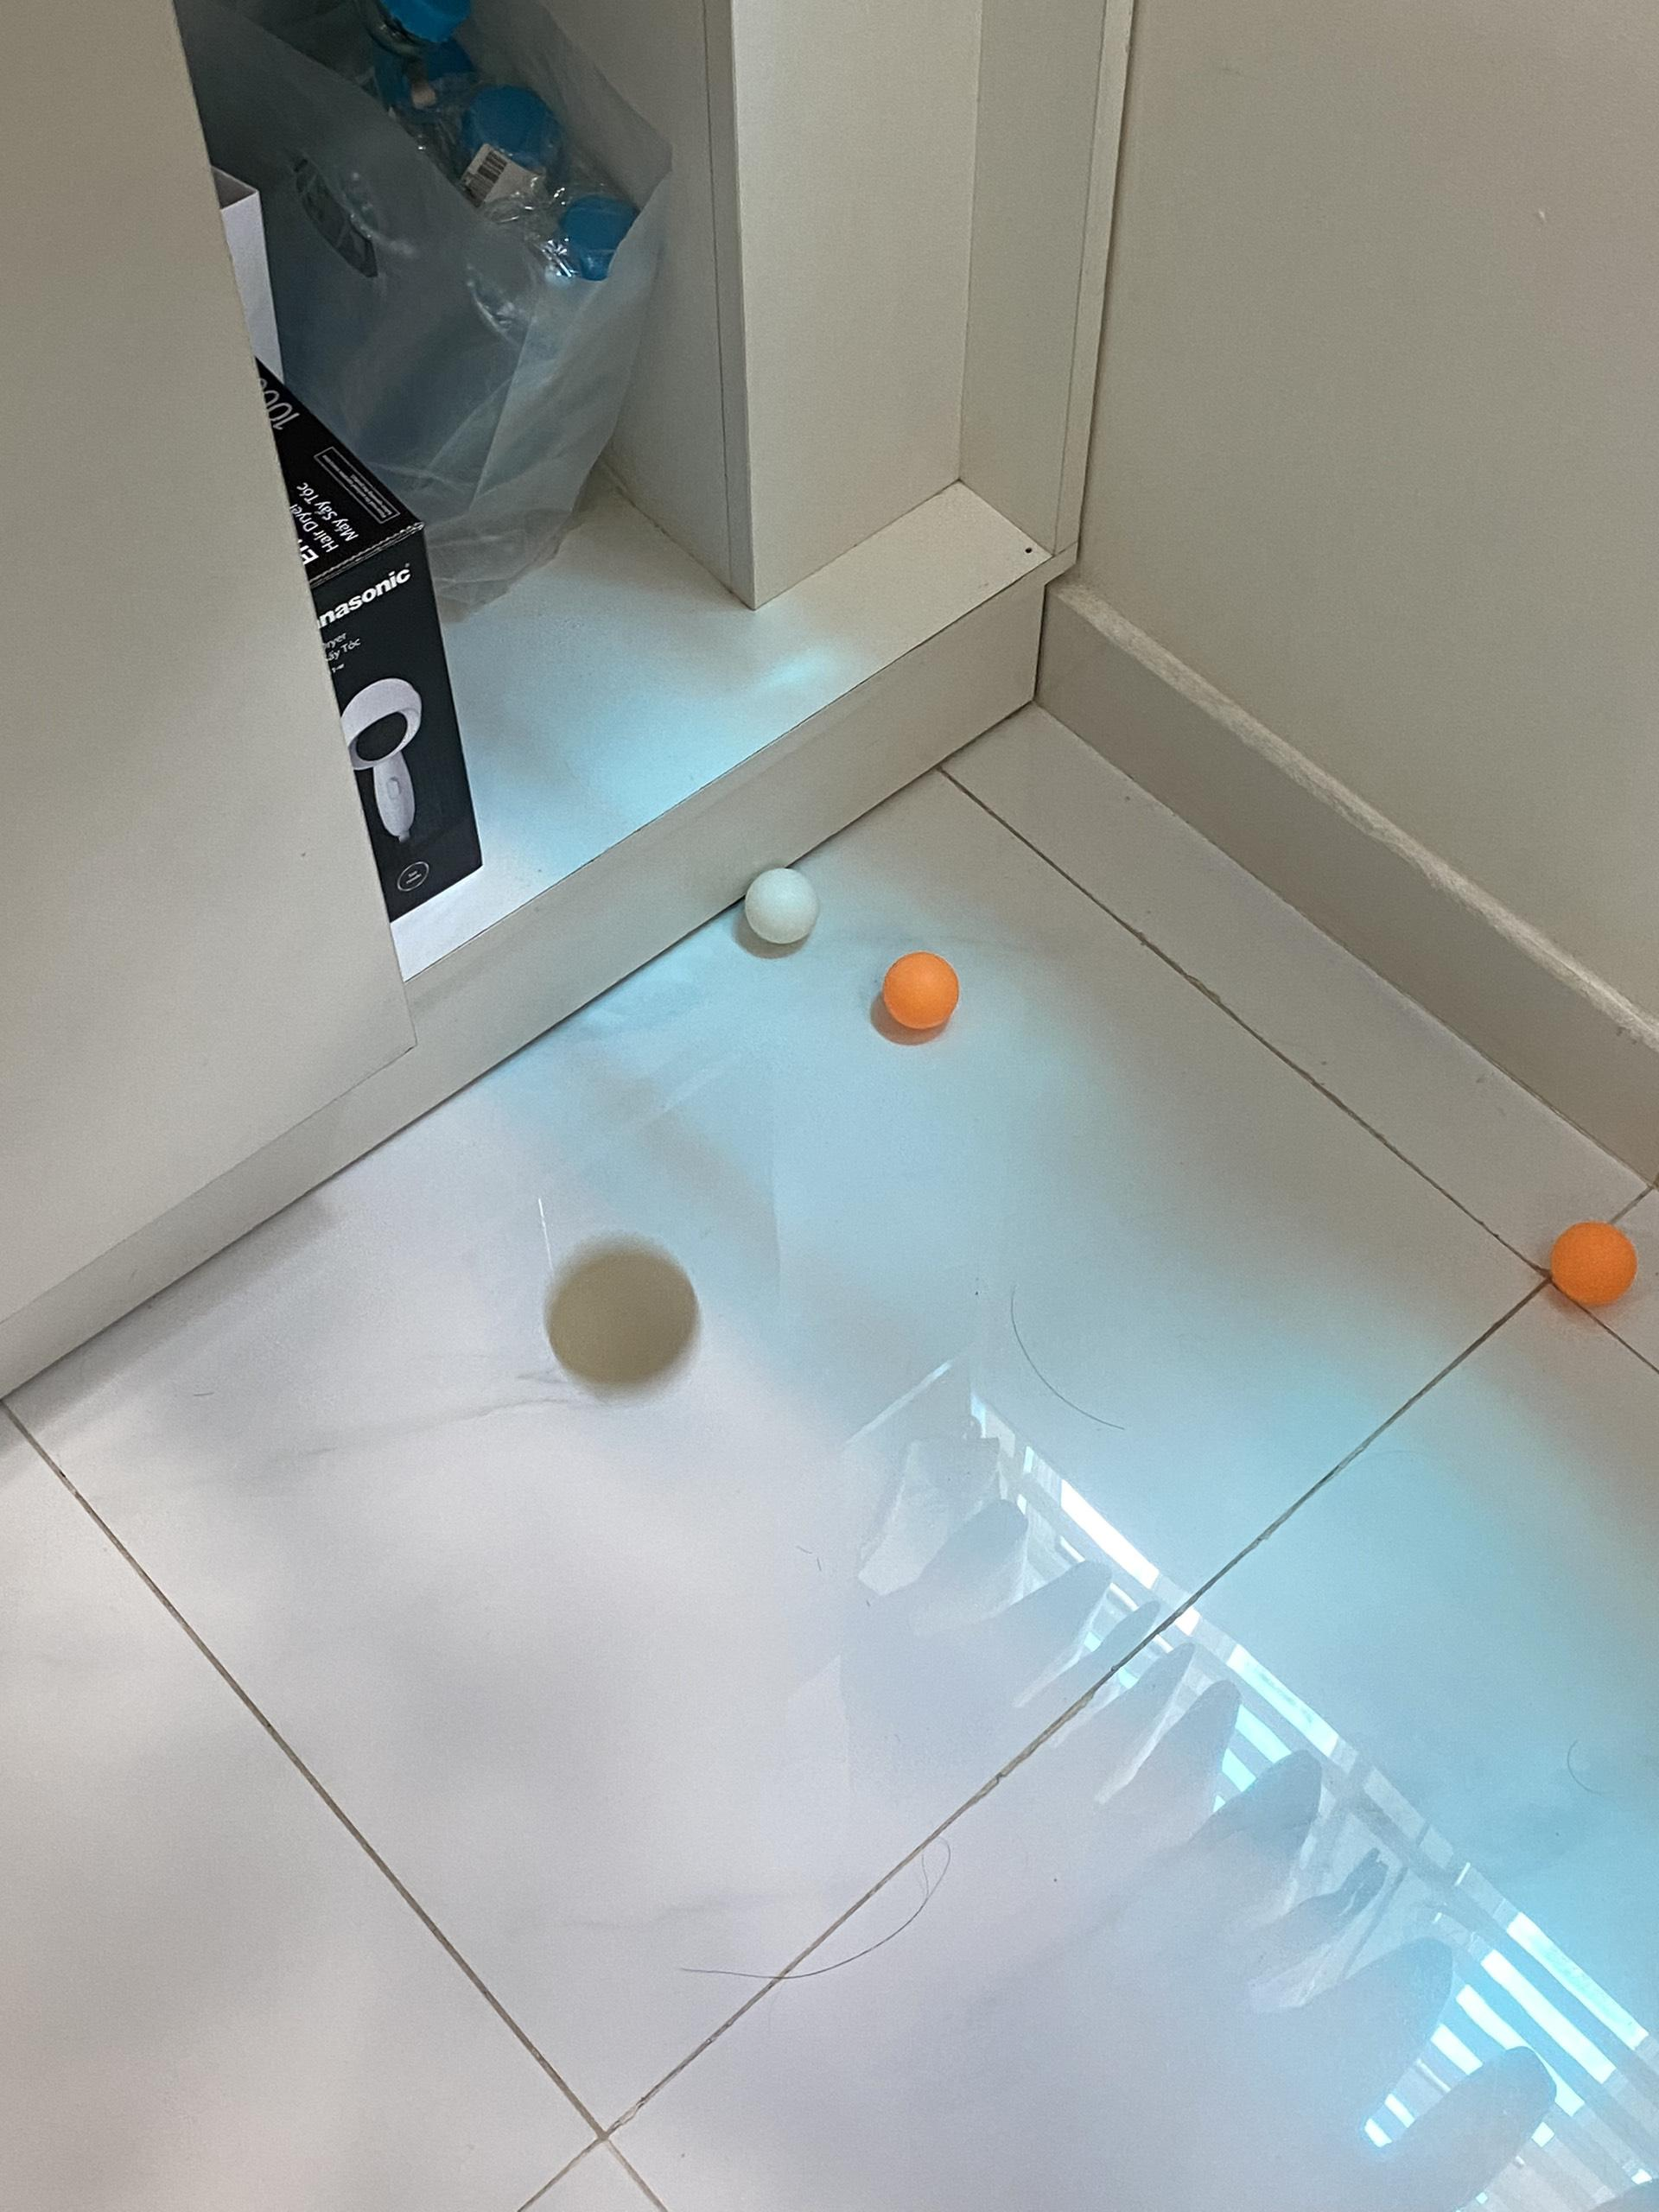oball: (1553, 1221, 1642, 1310), (882, 953, 965, 1031)
